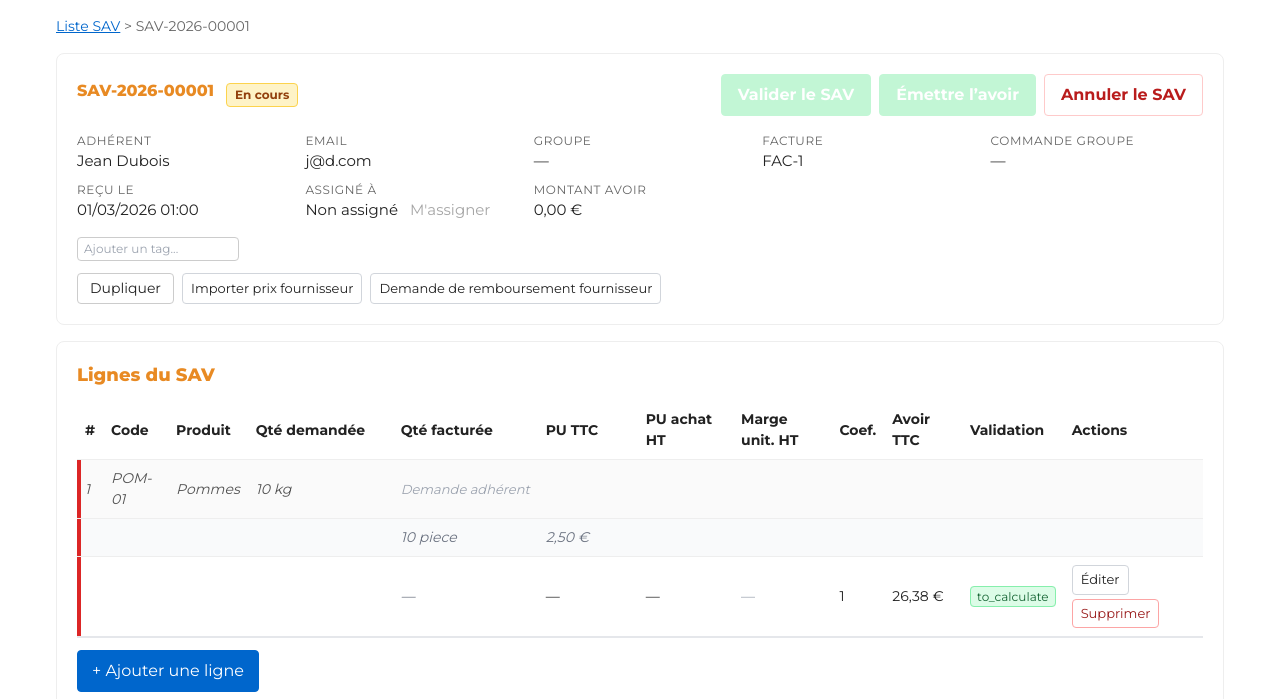
Scenario: V1.9-B S-04 — edit-extra-row dans même <tbody> quand to_calculate (preserved) › validationStatus=to_calculate + édition → <tr class="edit-extra-row"> dans <tbody class="sav-line-group">
Click the button with test id "edit-line-100".
click(1100, 580)  # box [1072, 565, 1128, 594]
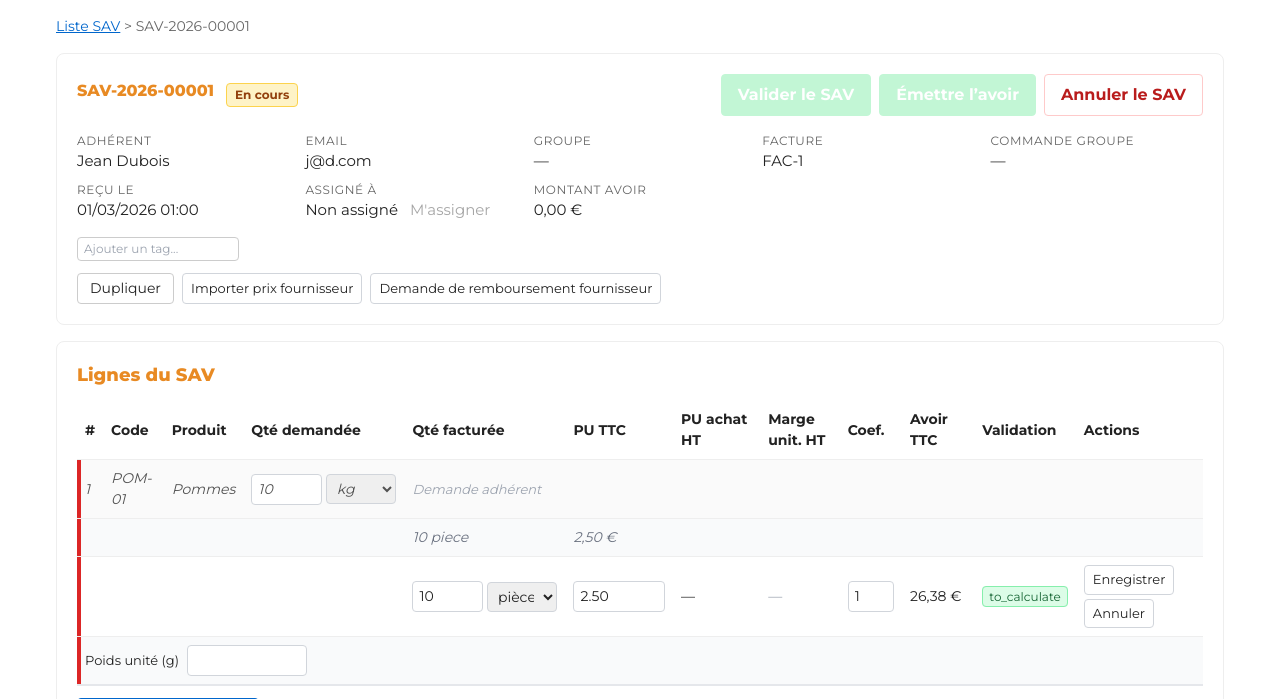
Check: the row with class "edit-extra-row" is shown, box [77, 636, 1203, 685]
Check: the number field with test id "edit-piece-to-kg-weight-g" is shown, box [187, 645, 307, 676]
